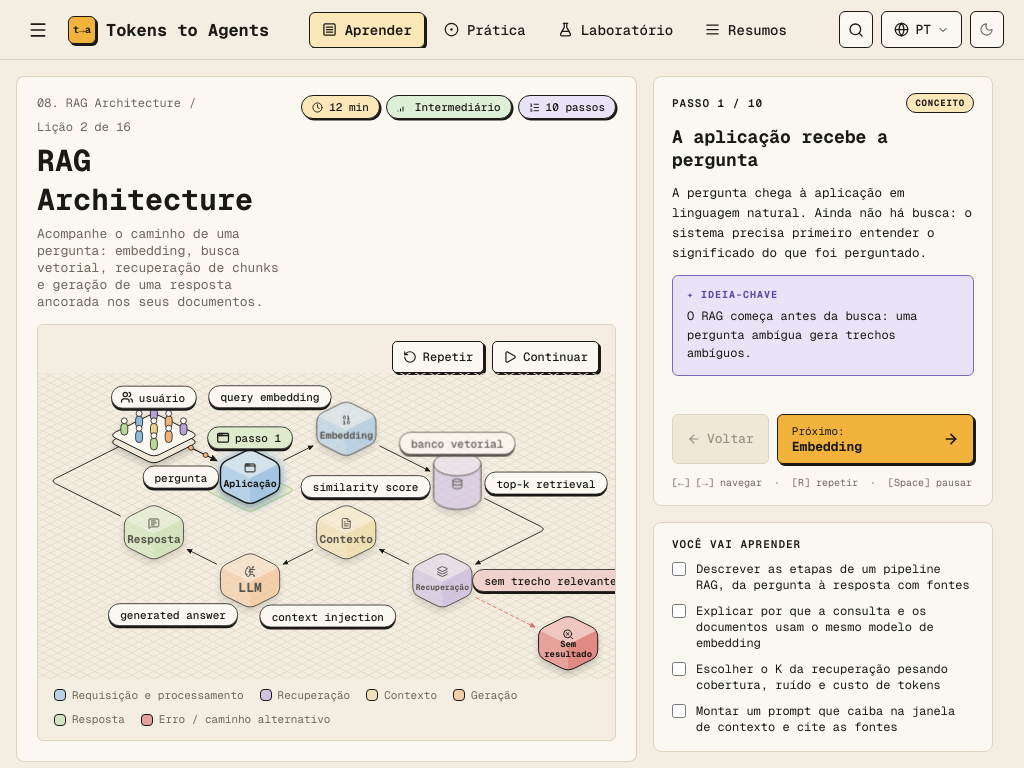
Test: App com I18nProvider › troca todos os textos da interface sem recarregar e mantém a aula e o passo (I18N-01.2)
The image size is (1024, 768).
Expected: the heading "RAG Architecture" is shown, 37,141 -> 285,219
Click the button "Próximo: Embedding".
click(875, 439)  # box 777,414 -> 974,464
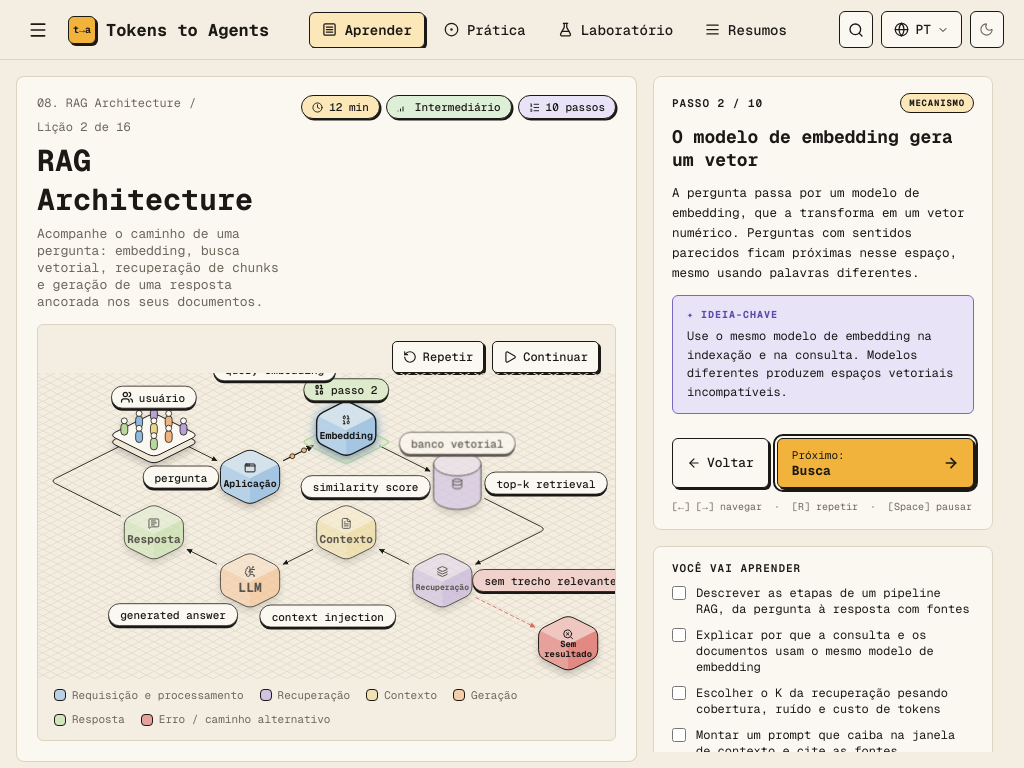
Click the button with aria-label "Idioma".
click(922, 30)  # box 881,11 -> 962,48
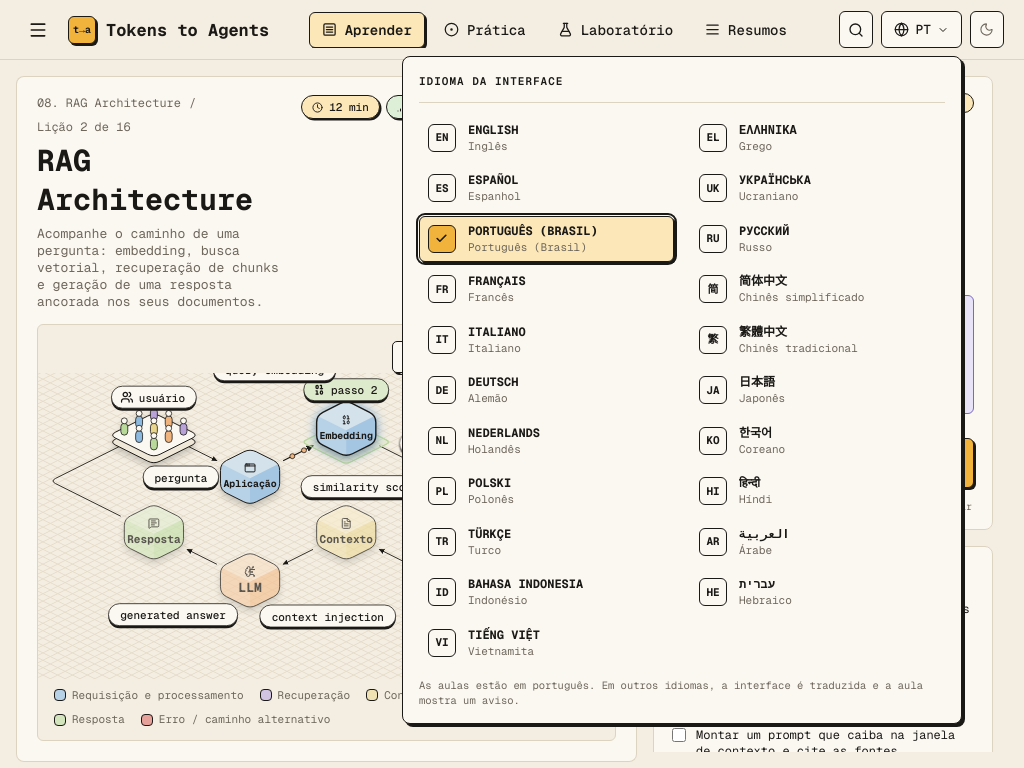
Click the menu item "EN English Inglês".
click(546, 138)  # box 419,114 -> 674,161
(page scrolled)
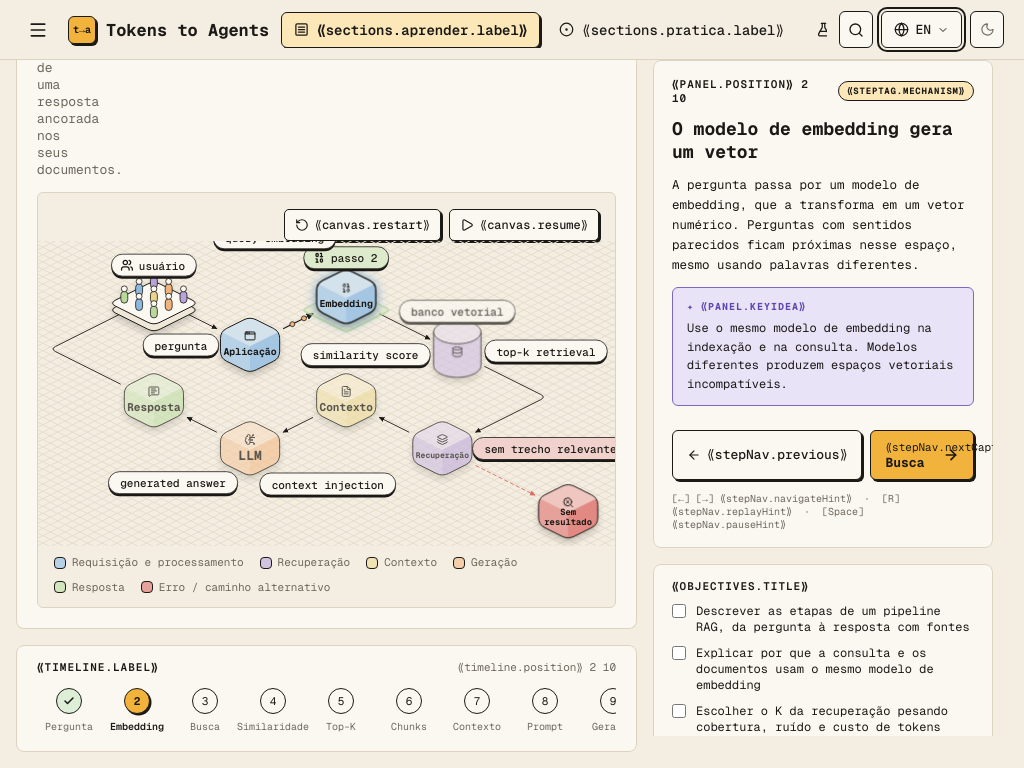
Expected: the heading "O modelo de embedding gera um vetor" is shown, 672,117 -> 974,163
Expected: the button with aria-label "⟪header.language⟫" is shown, 881,11 -> 962,48
